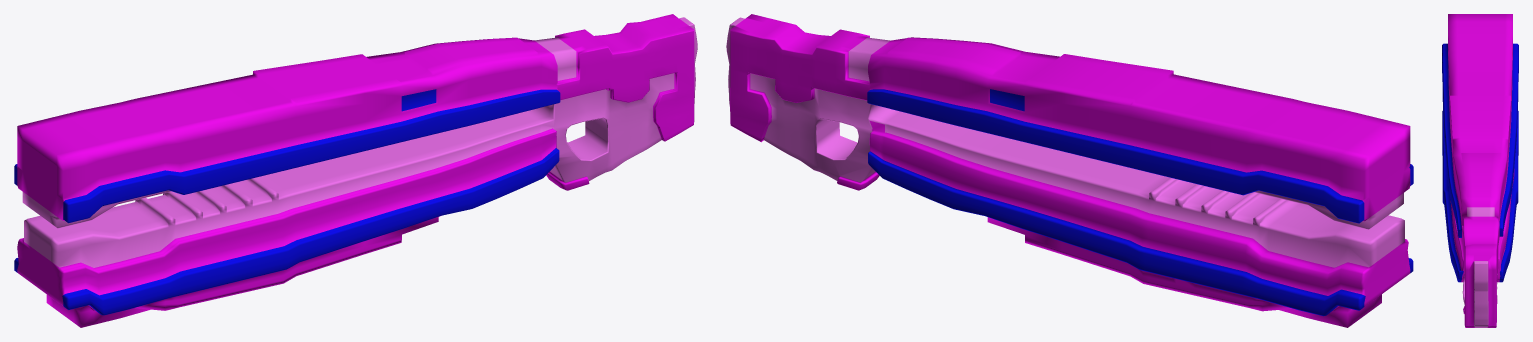
The model's file is Rail_Gun.fbx.
The picture shows the model from 3 angles, left to right: view 1: azimuth 30°, elevation 25°; view 2: azimuth 150°, elevation 25°; view 3: azimuth 270°, elevation 25°; orthographic projection. The views are drawn at different scales.
Visible parts, largest first — view 1: RailGun; view 2: RailGun; view 3: RailGun.
Boxes of the visible parts, x1=… form: RailGun: x1=14, y1=14, x2=697, y2=327; RailGun: x1=726, y1=14, x2=1413, y2=327; RailGun: x1=1442, y1=14, x2=1518, y2=327.
Size of the model in its own units: 260 by 68.15 by 37.56.
